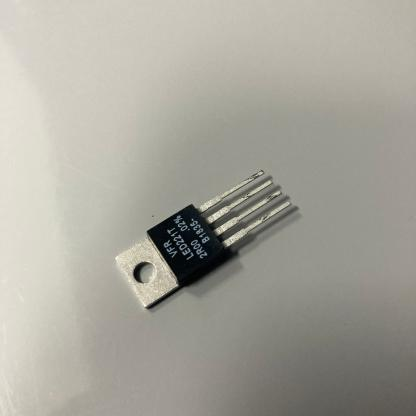SP0000012: (67, 104, 338, 342)
